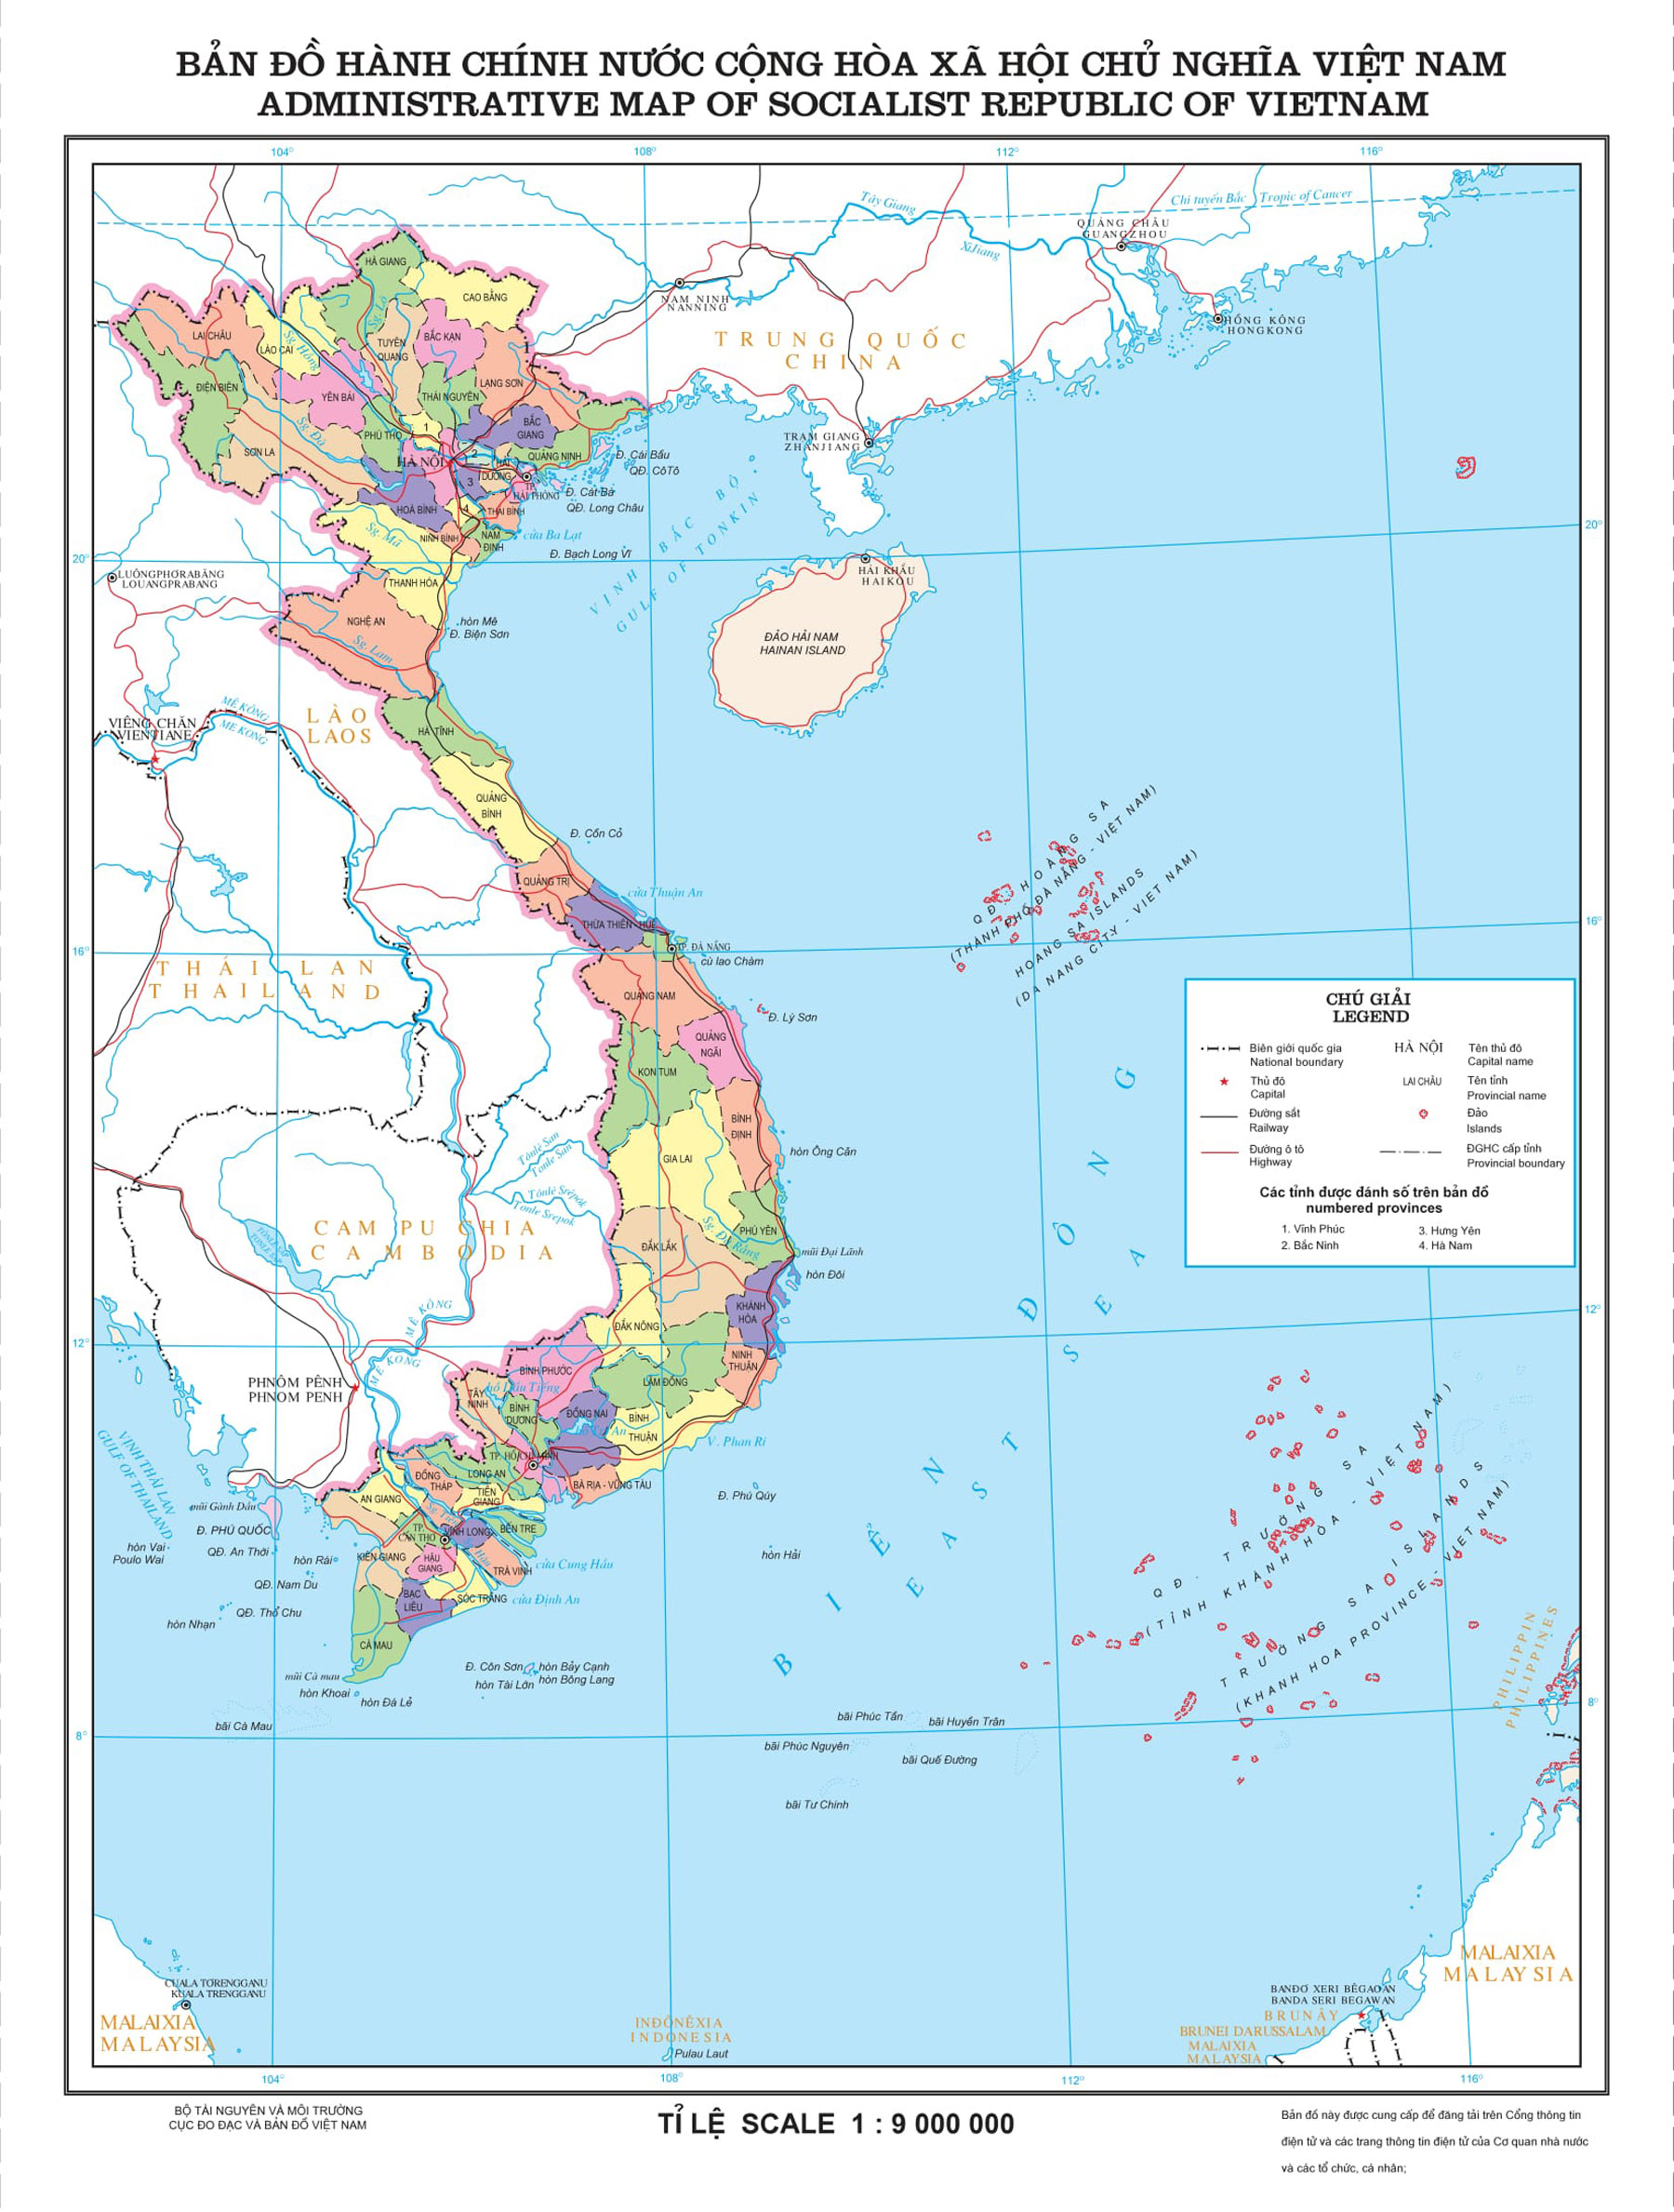Island: (1032, 1347, 1528, 1774), (932, 779, 1196, 1002)
